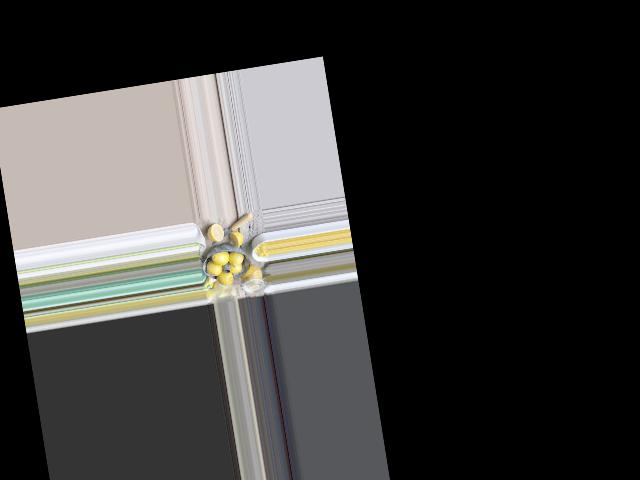lemon: (228, 249, 244, 267)
